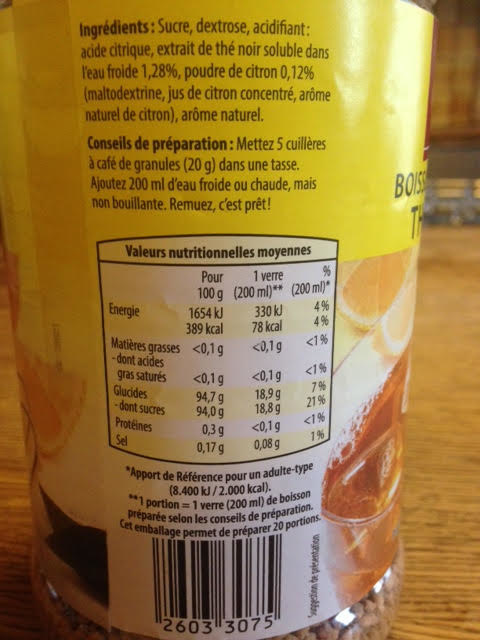column: (108, 303, 181, 450), (234, 271, 286, 450), (185, 271, 225, 457), (292, 267, 330, 438)
table: (97, 234, 337, 465)
